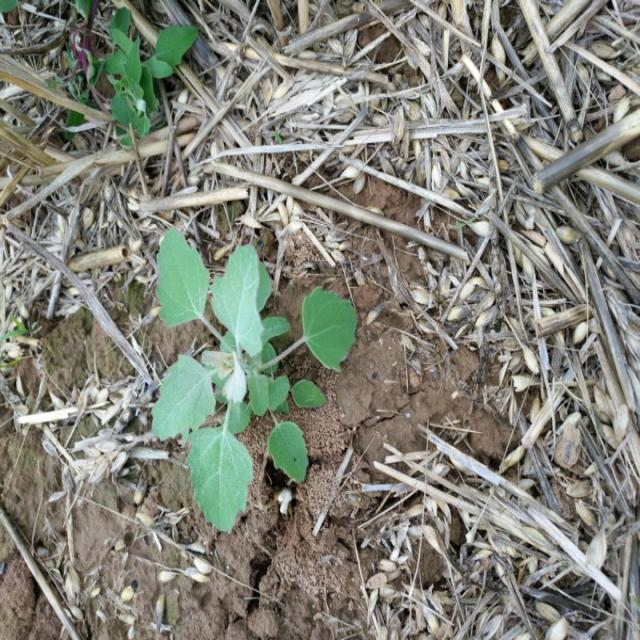goosefoots: (139, 215, 352, 524)
